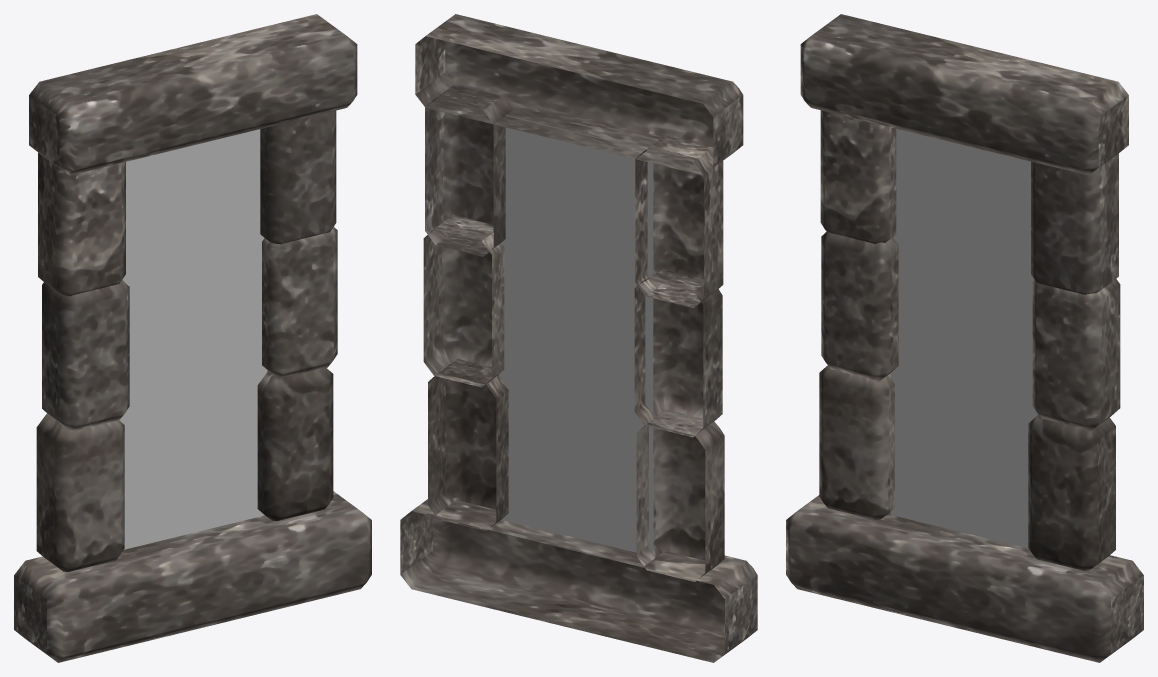
Rendered from WindowG.fbx.
3 renders of one model, left to right at view 1: azimuth 30°, elevation 25°; view 2: azimuth 150°, elevation 25°; view 3: azimuth 330°, elevation 25°, orthographic.
Visible parts, largest first — view 1: Mesh; view 2: Mesh; view 3: Mesh.
Boxes of the visible parts, bbox=[...] form: Mesh: bbox=[14, 14, 371, 662]; Mesh: bbox=[400, 14, 757, 662]; Mesh: bbox=[786, 14, 1143, 662].
Bounding box in the file's own units: 97.49 × 159 × 20.45.
